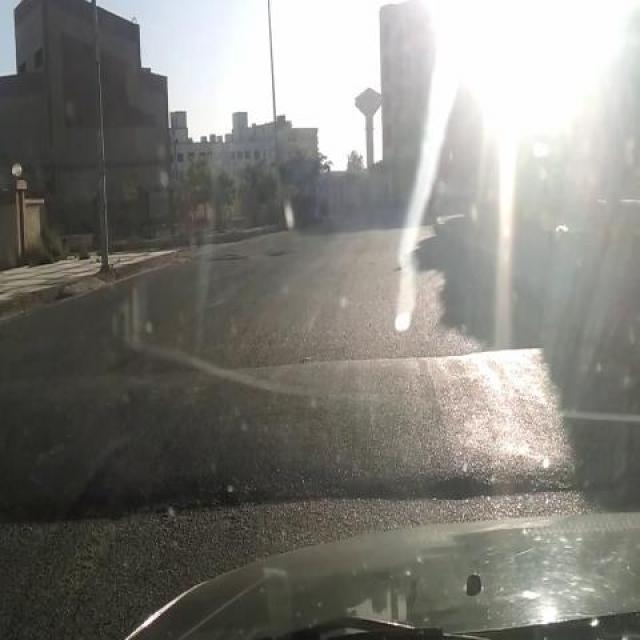Unmarked Bump: (0, 344, 583, 518)
